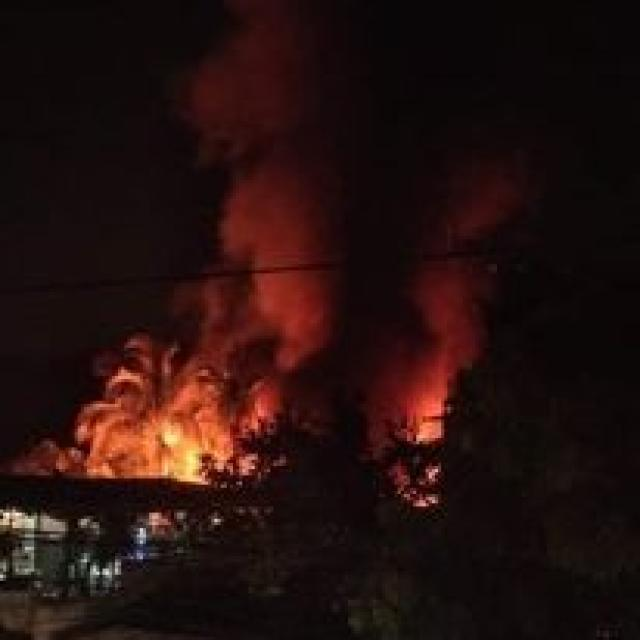Fire: (410, 359, 470, 482), (160, 421, 242, 489)
Smoke: (192, 5, 532, 440)
